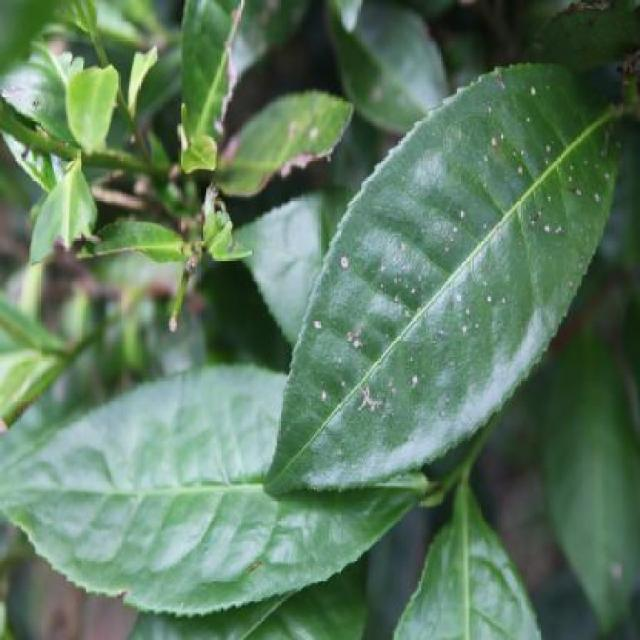Leaf rust of tea: (271, 63, 618, 495)
